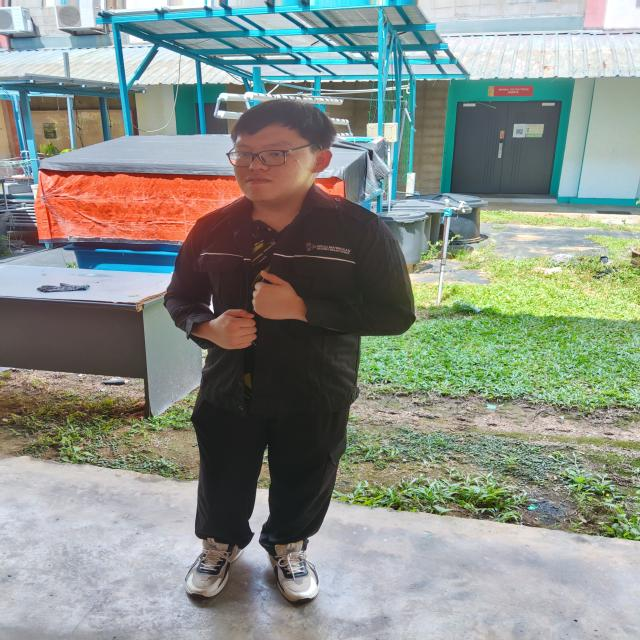person_with_labcoat: (165, 103, 415, 602)
